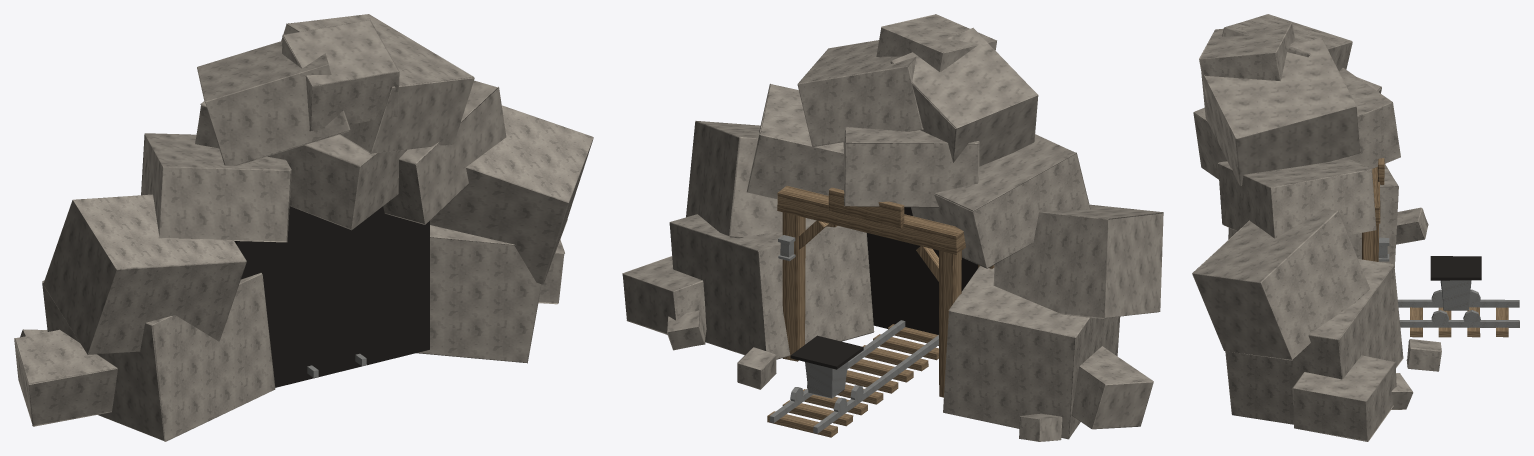
File: cave_entrance.glb
The picture shows the model from 3 angles, left to right: view 1: azimuth 30°, elevation 25°; view 2: azimuth 150°, elevation 25°; view 3: azimuth 270°, elevation 25°; orthographic projection. The views are drawn at different scales.
Parts seen in each view (by area): view 1: CaveEntrance; view 2: CaveEntrance; view 3: CaveEntrance.
Part boxes in pixels (x1=…): CaveEntrance: x1=14, y1=14, x2=593, y2=441; CaveEntrance: x1=622, y1=14, x2=1163, y2=441; CaveEntrance: x1=1192, y1=14, x2=1519, y2=441.
Size of the model in its own units: 9.7 by 5.96 by 5.77.
Materials: 4 (3 with a texture image).
